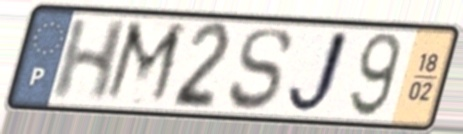2: (169, 18, 233, 113)
9: (345, 30, 405, 121)
H: (47, 17, 133, 104)
J: (283, 26, 354, 118)
M: (99, 17, 190, 109)
S: (226, 25, 296, 114)
